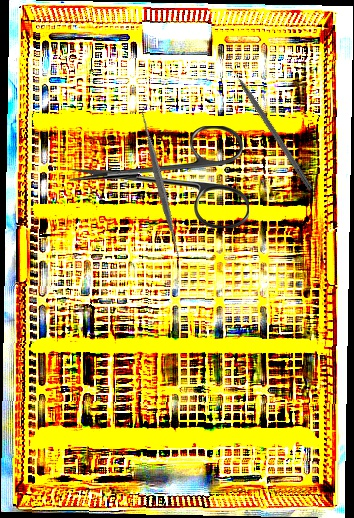Hook Surgical: (223, 56, 315, 192)
Iris Scissors: (69, 126, 249, 228)
Spatula Surgical: (79, 103, 242, 265)
